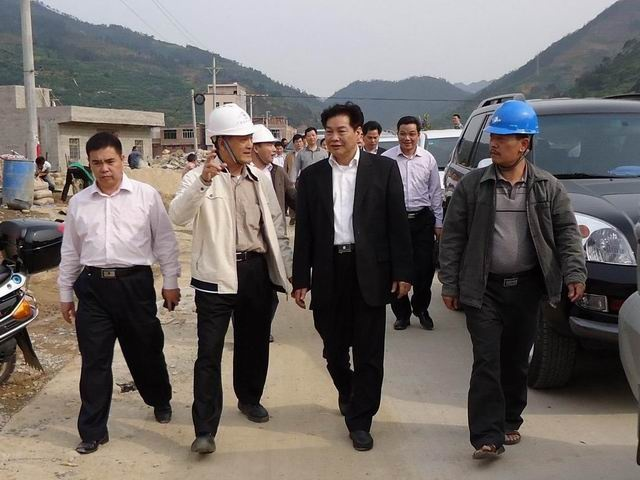blue: (487, 100, 540, 167)
none: (83, 132, 128, 190), (320, 105, 362, 157), (393, 114, 422, 153), (359, 119, 383, 150), (303, 126, 318, 146), (291, 133, 303, 150), (34, 155, 46, 169), (273, 139, 283, 155), (450, 111, 461, 125), (186, 152, 196, 164)
white: (207, 103, 257, 168), (248, 122, 277, 165)
